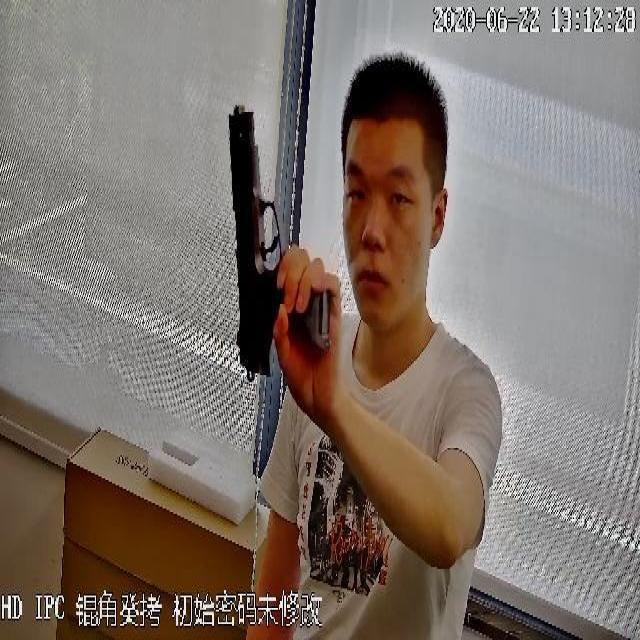pistol: (224, 99, 336, 369)
